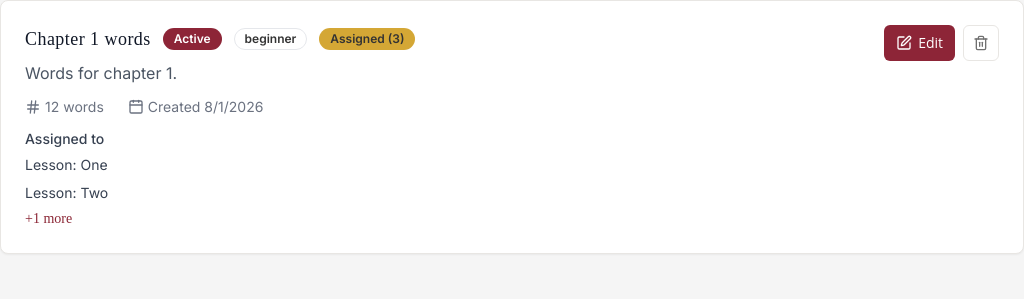
Test: vocabulary pool list usage status › shows two usages, expands the remainder, and keeps deletion available while assigned
Expected: the text "Assigned (3)" is shown, [319,28,415,50]
Expected: the text "Lesson: Three" is not shown
Step 1. Click the button titled "Delete pool" → (981, 43), box [963,25,999,61]
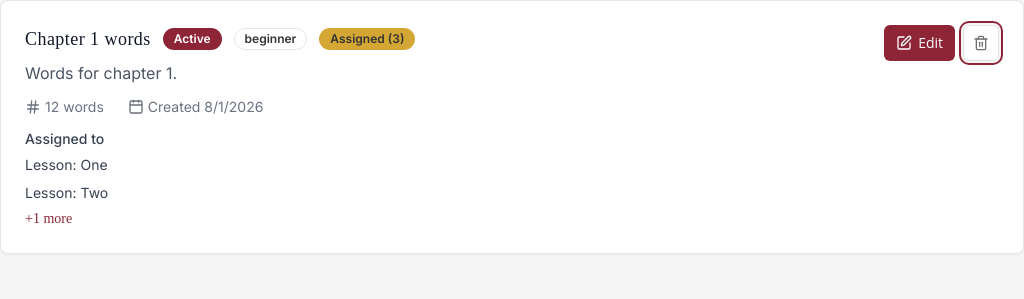
Step 2. Click the button "+1 more" → (49, 219), box [25,209,72,229]
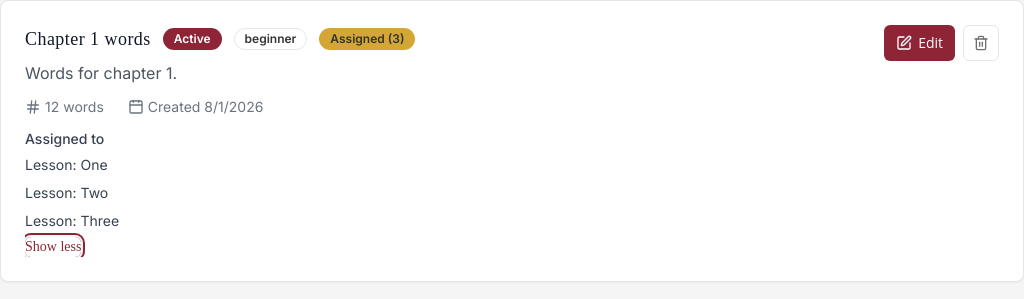
Result: the text "Lesson: Three" is shown at [25,212,119,229]
Result: the button "Show less" is shown at [25,237,81,257]
